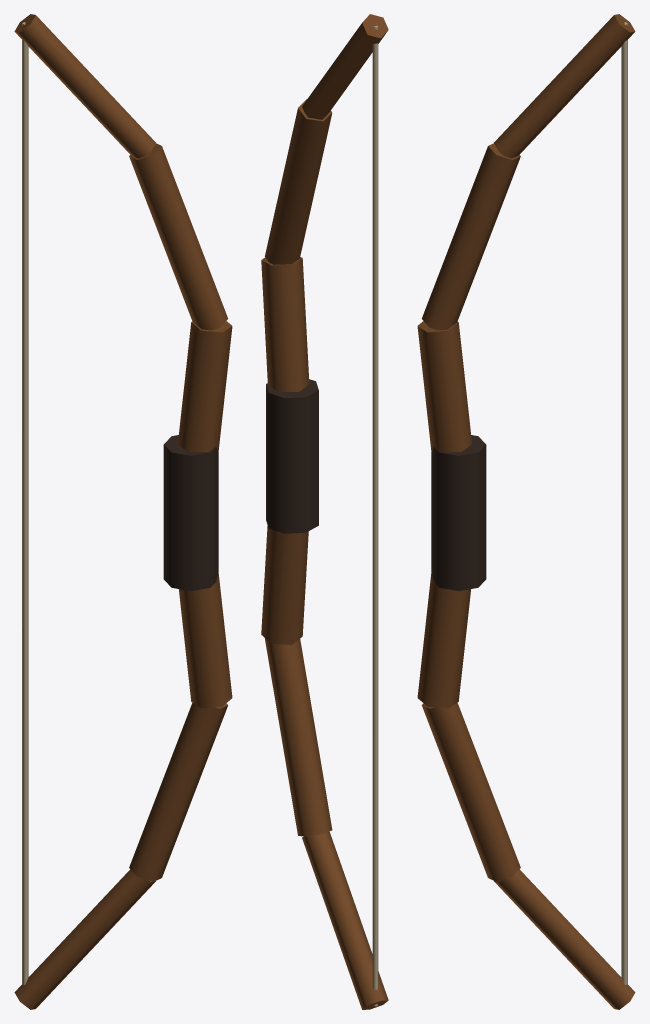
Rendered from bow-v1.glb.
The picture shows the model from 3 angles, left to right: view 1: azimuth 90°, elevation 25°; view 2: azimuth 210°, elevation 25°; view 3: azimuth 270°, elevation 25°; orthographic projection.
Parts seen in each view (by area): view 1: bow-v1; view 2: bow-v1; view 3: bow-v1.
Boxes of the visible parts, box(x1,y1,x2,y2) form: bow-v1: box(14, 14, 232, 1009); bow-v1: box(261, 14, 388, 1009); bow-v1: box(417, 14, 635, 1009).
Size of the model in its own units: 0.066 by 1.32 by 0.2628.
